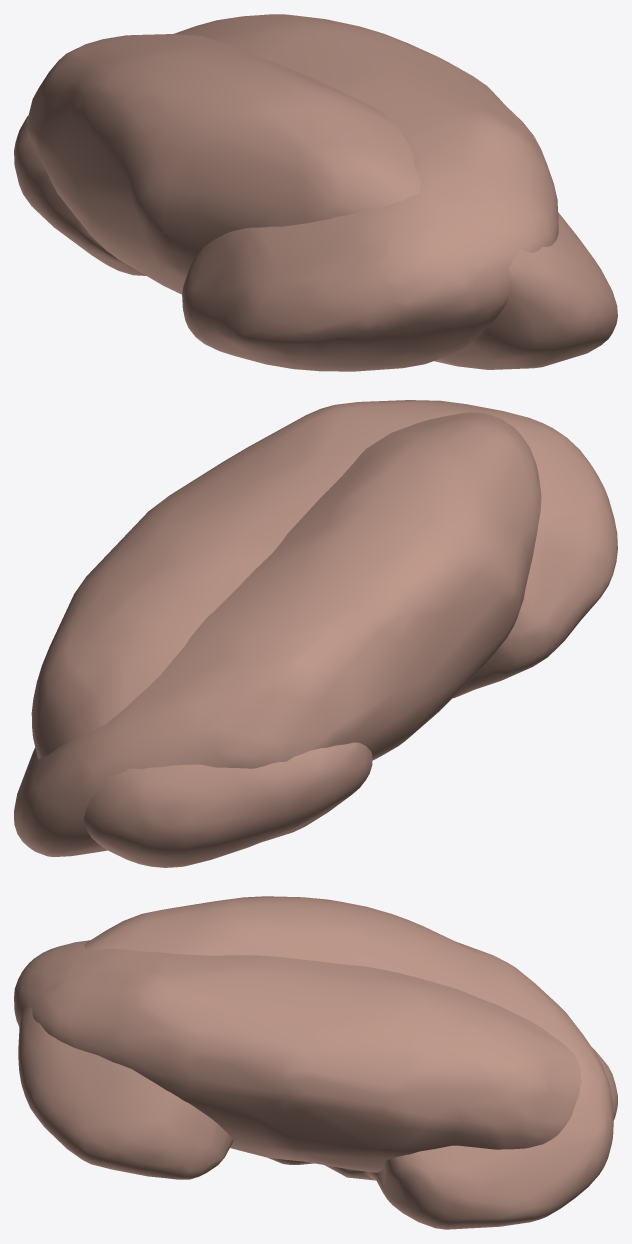
Rendered from atlas_kidneys.glb.
3 views of the same model, one above another, from view 1: azimuth 30°, elevation 25°; view 2: azimuth 150°, elevation 25°; view 3: azimuth 270°, elevation 25° (orthographic). The views are drawn at different scales.
Visible parts, largest first — view 1: left kidney, right kidney; view 2: right kidney, left kidney; view 3: left kidney, right kidney.
Part boxes in pixels (left/top/right/bottom): left kidney: left=14, top=14, right=558, bottom=371; right kidney: left=27, top=34, right=617, bottom=369; right kidney: left=14, top=412, right=541, bottom=856; left kidney: left=31, top=400, right=617, bottom=867; left kidney: left=14, top=940, right=617, bottom=1172; right kidney: left=18, top=896, right=613, bottom=1229.
Size of the model in its own units: 1885626 by 1545221 by 3471530.
